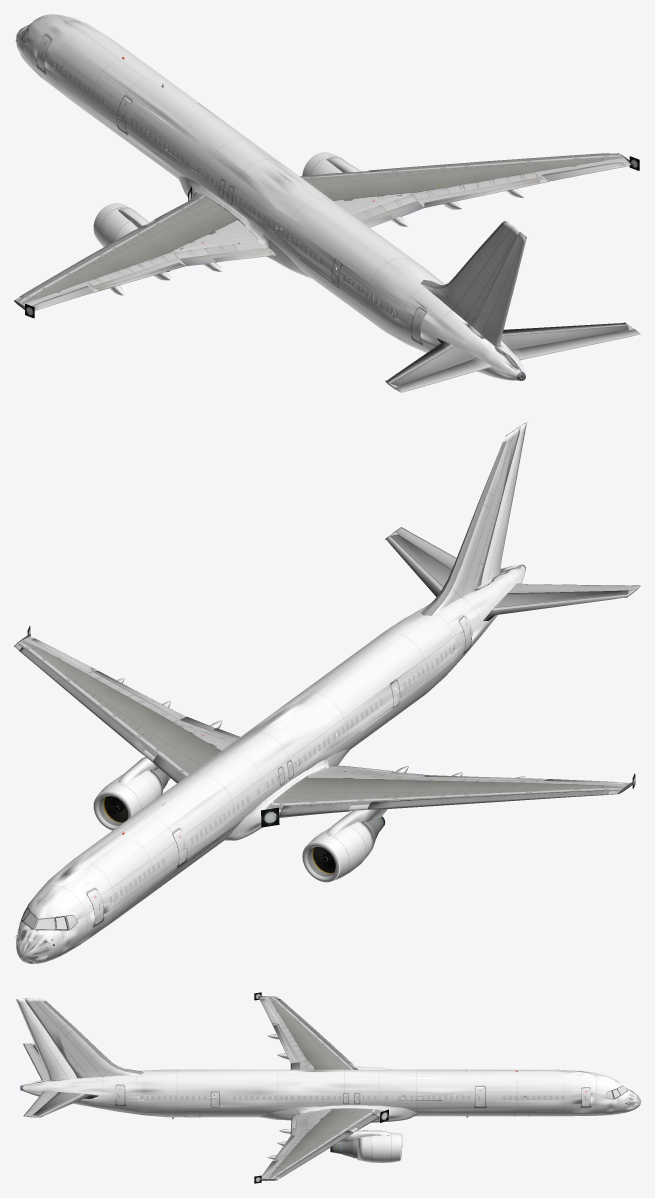
3 views of the same model, one above another, from view 1: azimuth 30°, elevation 25°; view 2: azimuth 150°, elevation 25°; view 3: azimuth 270°, elevation 25° (orthographic). The views are drawn at different scales.
Parts seen in each view (by area): view 1: Fuselage, Wing1, Wing2, VStab, Rudder, HorzStab2, Engine, HorzStab1, Wingroot1, Elevator2, Windows, Elevator1 (+5 smaller); view 2: Fuselage, Wing1, Wing2, VStab, Engine, HorzStab1, Rudder, Slat1, HorzStab2, Wingroot1, Slat4, Engine_001 (+2 smaller); view 3: Fuselage, VStab, Wing2, Wing1, Rudder, Wingroot2, Engine, Windows, HorzStab2, Slat4, RReverserTurbofan, Elevator1 (+4 smaller).
Boxes of the visible parts, left/top/right/bottom form: Fuselage: left=16, top=14, right=525, bottom=380; Wing1: left=15, top=190, right=267, bottom=310; Wing2: left=301, top=153, right=630, bottom=214; VStab: left=420, top=221, right=520, bottom=327; Rudder: left=474, top=232, right=526, bottom=347; HorzStab2: left=501, top=322, right=634, bottom=349; Engine: left=93, top=152, right=344, bottom=246; HorzStab1: left=385, top=338, right=475, bottom=389; Wingroot1: left=178, top=176, right=311, bottom=278; Elevator2: left=510, top=329, right=640, bottom=360; Windows: left=50, top=59, right=398, bottom=318; Elevator1: left=395, top=357, right=491, bottom=392; Fuselage: left=16, top=564, right=525, bottom=963; Wing1: left=257, top=767, right=629, bottom=823; Wing2: left=15, top=636, right=231, bottom=777; VStab: left=421, top=426, right=520, bottom=615; Engine: left=98, top=774, right=365, bottom=880; HorzStab1: left=483, top=590, right=634, bottom=621; Rudder: left=481, top=421, right=527, bottom=584; Slat1: left=368, top=790, right=610, bottom=809; HorzStab2: left=385, top=531, right=451, bottom=596; Wingroot1: left=224, top=749, right=349, bottom=840; Slat4: left=19, top=647, right=147, bottom=754; Engine_001: left=93, top=791, right=340, bottom=882; Fuselage: left=20, top=1069, right=640, bottom=1117; VStab: left=24, top=998, right=143, bottom=1078; Wing2: left=261, top=1108, right=391, bottom=1179; Wing1: left=259, top=996, right=357, bottom=1069; Rudder: left=16, top=998, right=77, bottom=1080; Wingroot2: left=259, top=1105, right=418, bottom=1122; Engine: left=371, top=1069, right=401, bottom=1162; Windows: left=140, top=1095, right=564, bottom=1099; HorzStab2: left=30, top=1092, right=98, bottom=1117; Slat4: left=277, top=1130, right=352, bottom=1177; RReverserTurbofan: left=357, top=1136, right=372, bottom=1162; Elevator1: left=23, top=1043, right=48, bottom=1080.
Size of the model in its own units: 37.2 by 12.34 by 53.45.
19 materials, 16 textured.
